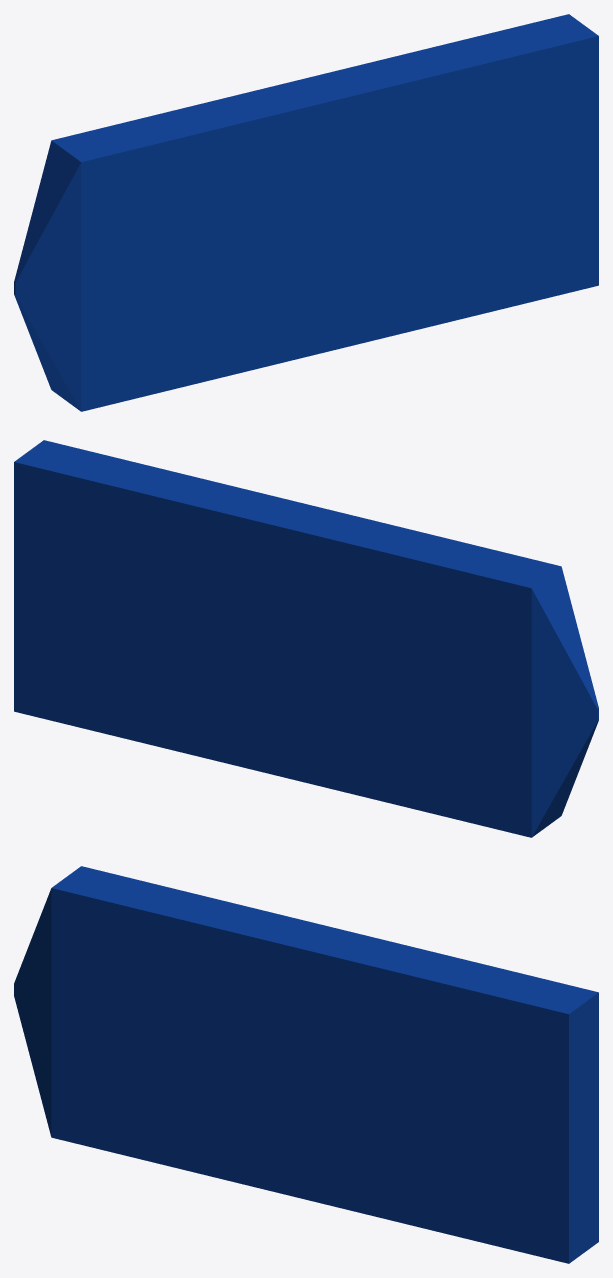
File: BumperNumber.fbx
3 views of the same model, one above another, from view 1: azimuth 30°, elevation 25°; view 2: azimuth 150°, elevation 25°; view 3: azimuth 330°, elevation 25° (orthographic).
Visible parts, largest first — view 1: BumperNumber; view 2: BumperNumber; view 3: BumperNumber.
Part boxes in pixels (<box>): BumperNumber: <box>14,14,598,411</box>; BumperNumber: <box>14,440,598,837</box>; BumperNumber: <box>14,866,598,1263</box>.
Size of the model in its own units: 92.89 by 38.92 by 8.47.
1 material, 1 textured.
